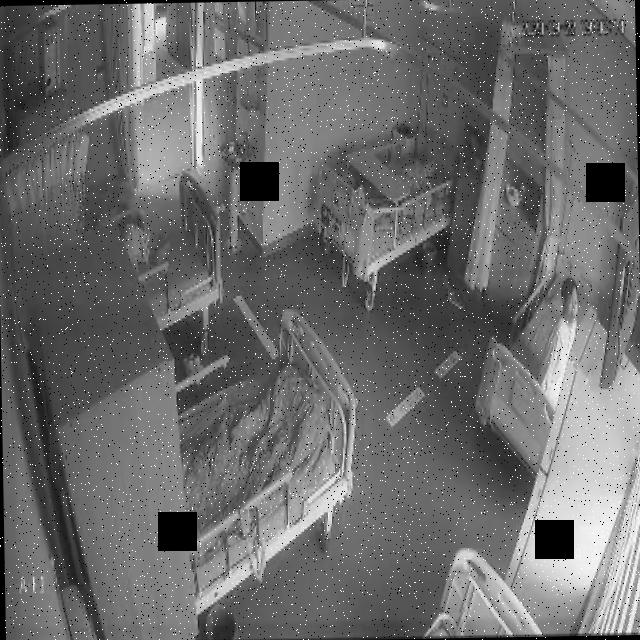bed: (174, 314, 354, 608), (473, 255, 592, 478), (315, 129, 458, 279), (126, 169, 225, 327)
patient: (536, 276, 588, 406)
sit: (537, 276, 589, 406)
